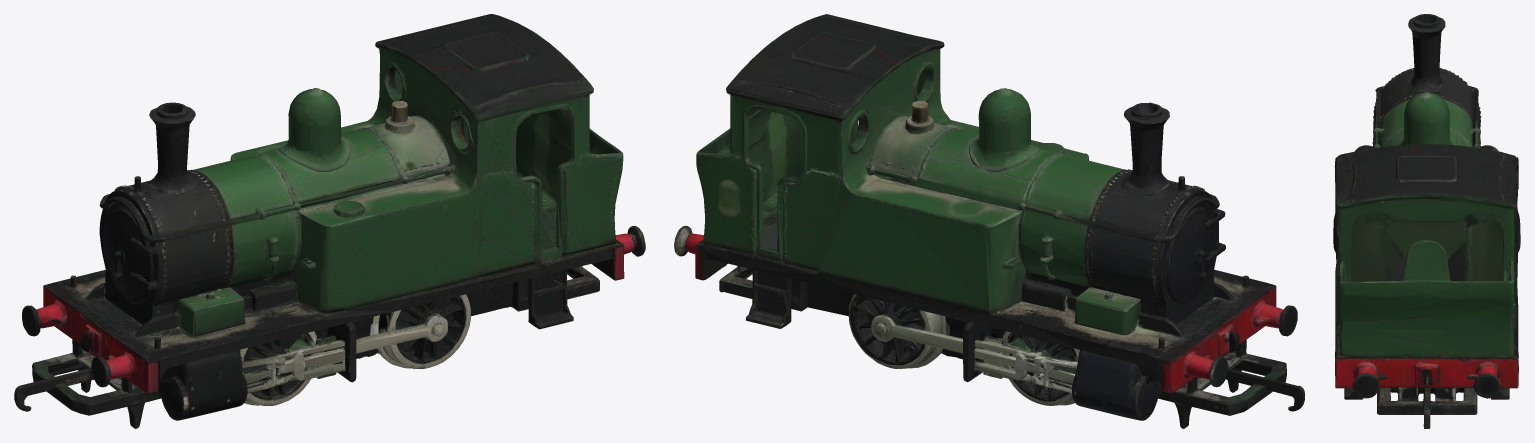
The model's file is loco.glb.
3 renders of one model, left to right at view 1: azimuth 30°, elevation 25°; view 2: azimuth 150°, elevation 25°; view 3: azimuth 270°, elevation 25°, orthographic. The views are drawn at different scales.
Bounding box in the file's own units: 1.9 × 0.9144 × 0.6007.
1 material, 1 textured.
